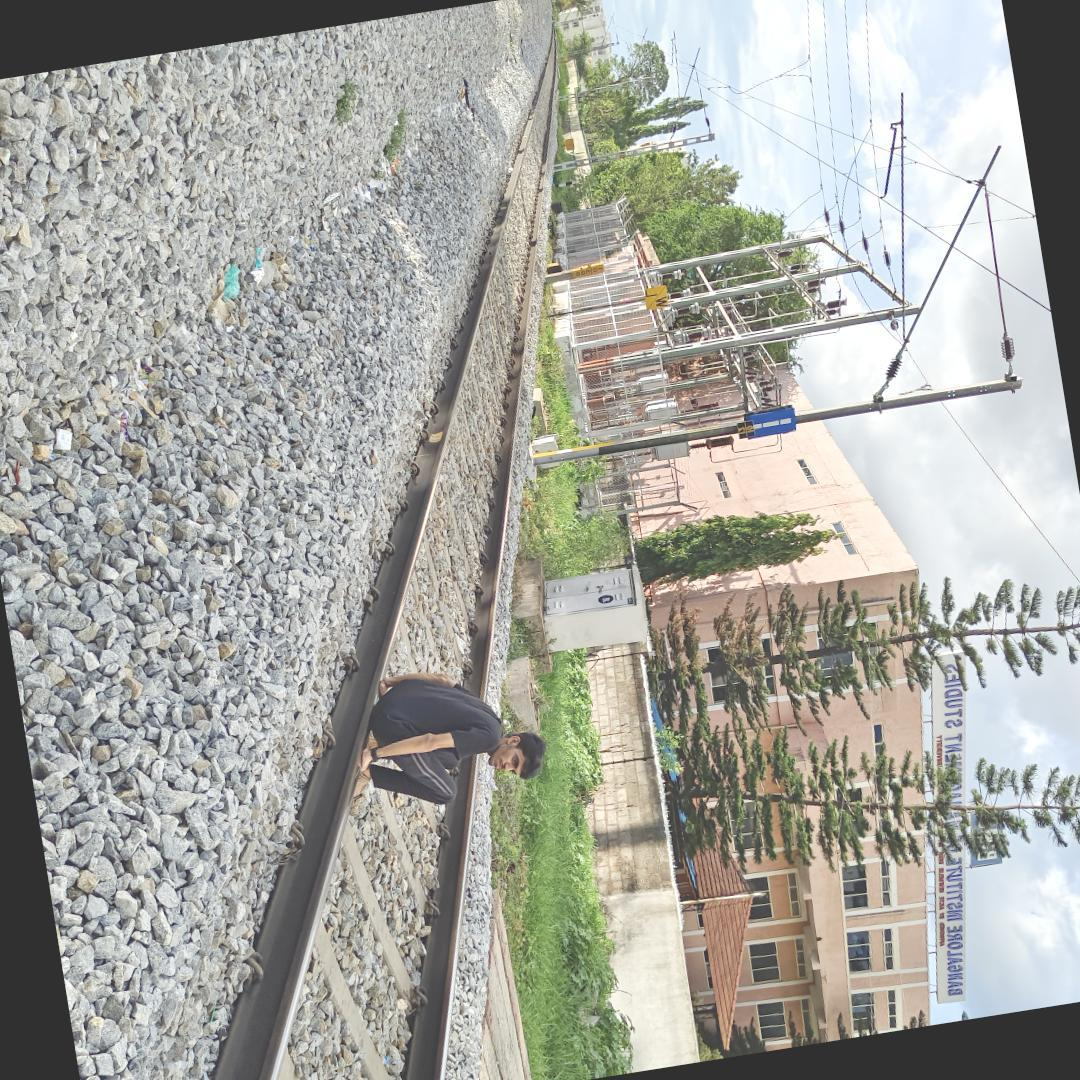sitting: (324, 639, 560, 828)
